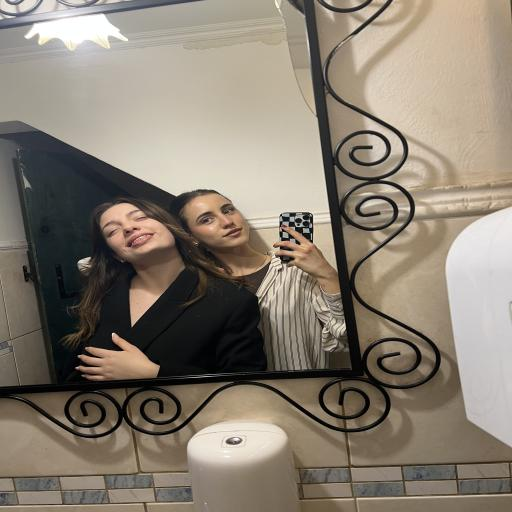masa: (180, 190, 250, 248)
